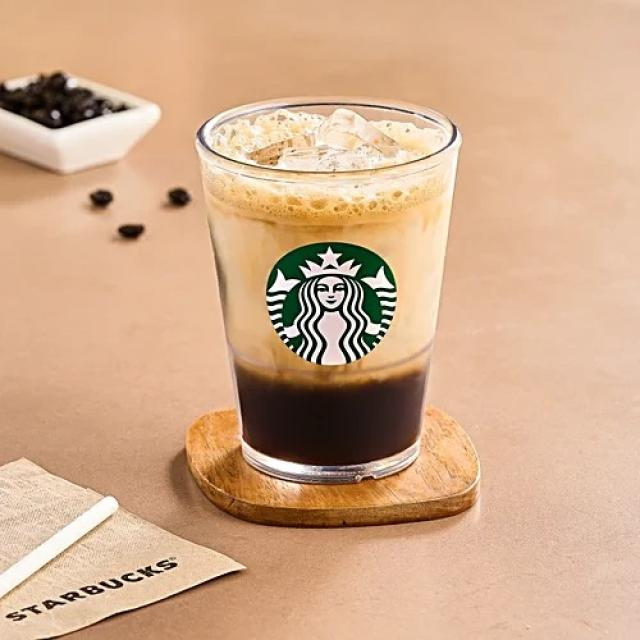starbucks: (259, 240, 402, 371)
